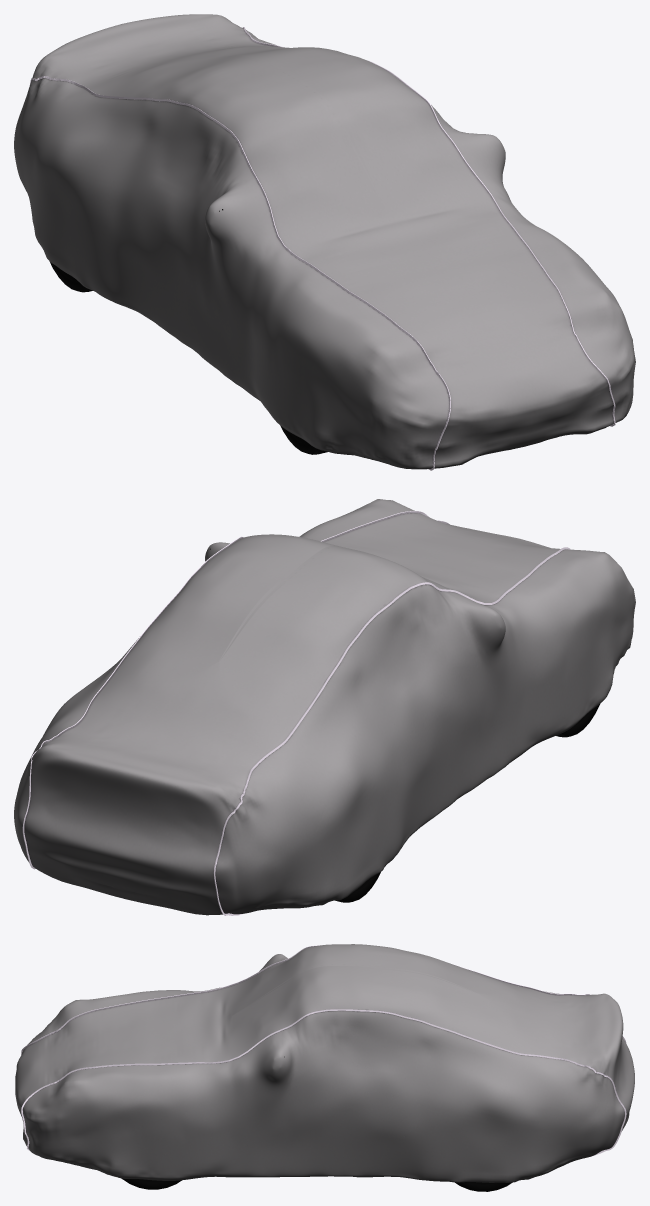
The model's file is esportivo.glb.
3 views of the same model, one above another, from view 1: azimuth 30°, elevation 25°; view 2: azimuth 150°, elevation 25°; view 3: azimuth 270°, elevation 25° (orthographic). The views are drawn at different scales.
Visible parts, largest first — view 1: CAPA, LINHA.002, RODA; view 2: CAPA, LINHA.002, RODA; view 3: CAPA, LINHA.002, RODA.
Part boxes in pixels (bbox=[...]): CAPA: bbox=[14, 14, 635, 469]; LINHA.002: bbox=[29, 27, 615, 470]; RODA: bbox=[50, 262, 327, 454]; CAPA: bbox=[14, 499, 635, 915]; LINHA.002: bbox=[22, 511, 570, 915]; RODA: bbox=[334, 703, 600, 902]; CAPA: bbox=[15, 944, 634, 1182]; LINHA.002: bbox=[21, 945, 626, 1156]; RODA: bbox=[121, 1178, 511, 1191].
Size of the model in its own units: 1.75 by 1.32 by 4.25.
Materials: 4 (2 with a texture image).
